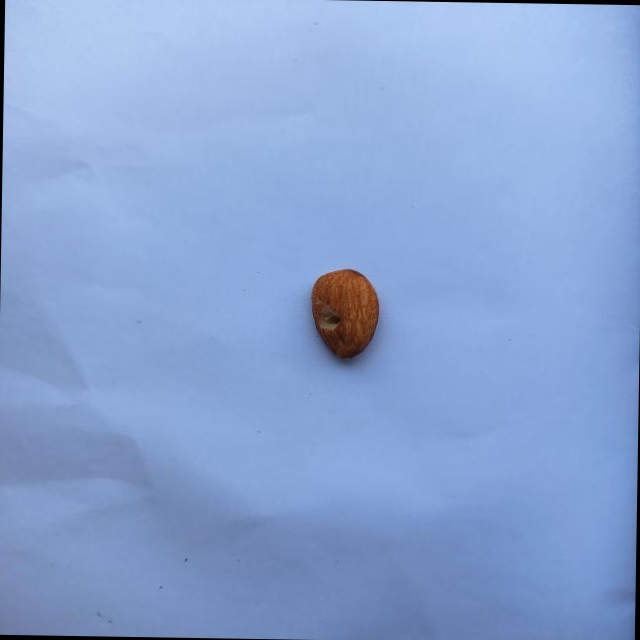grade3: (305, 265, 382, 364)
